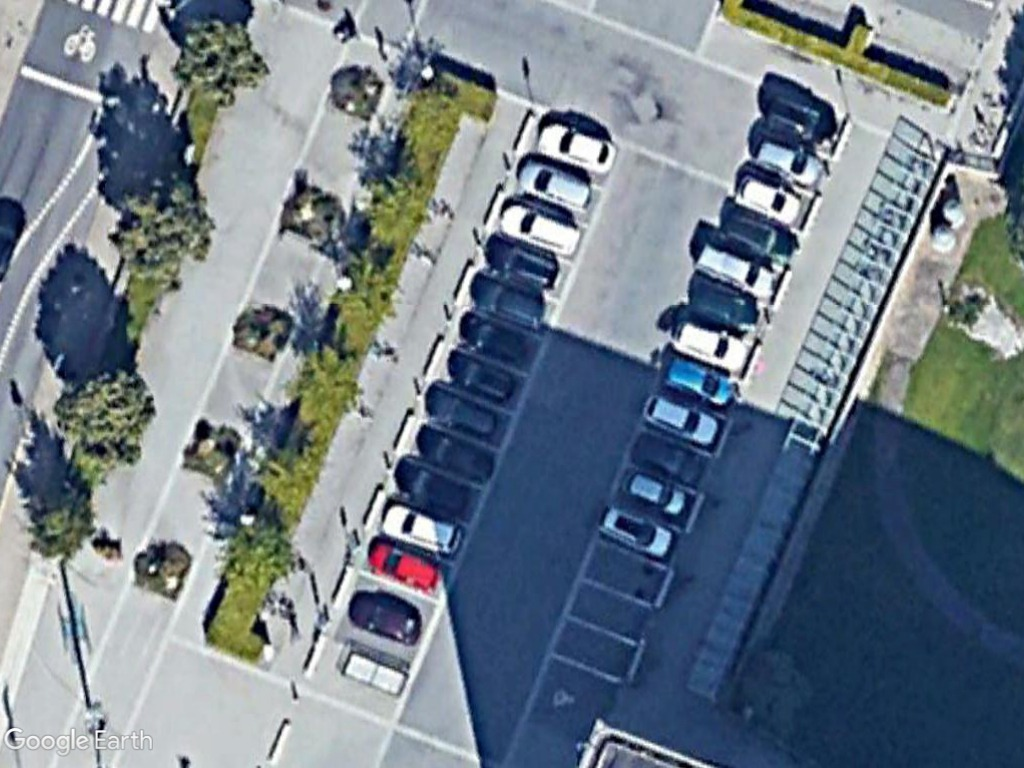car: (375, 492, 470, 561), (692, 234, 784, 305), (635, 388, 725, 452), (512, 154, 602, 216), (497, 200, 586, 260), (534, 118, 625, 176), (668, 315, 754, 375), (592, 502, 679, 561), (652, 352, 740, 409), (362, 535, 447, 594), (747, 134, 830, 194), (344, 591, 428, 649), (724, 171, 806, 230), (618, 465, 695, 522)
